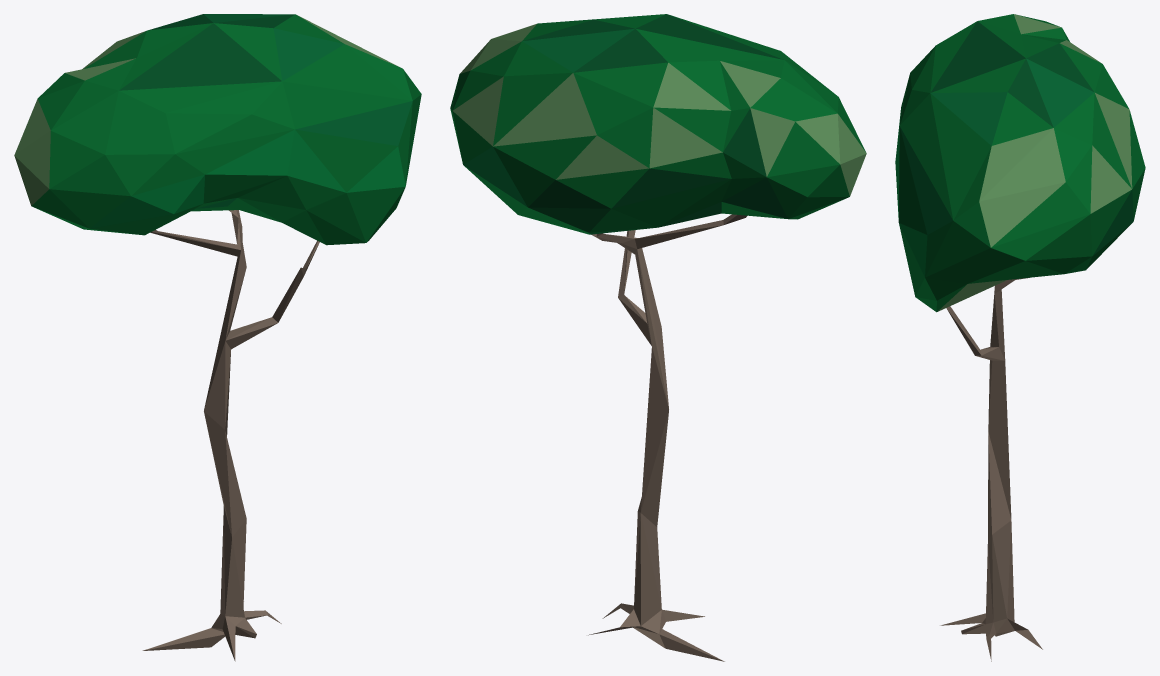
Rendered from Glade_Tree3.fbx.
3 views of the same model, side by side, from view 1: azimuth 30°, elevation 25°; view 2: azimuth 150°, elevation 25°; view 3: azimuth 270°, elevation 25° (orthographic). The views are drawn at different scales.
Visible parts, largest first — view 1: Icosphere.004; view 2: Icosphere.004; view 3: Icosphere.004.
Part boxes in pixels (box(x1,y1,x2,y2)): Icosphere.004: box(14, 14, 421, 661); Icosphere.004: box(450, 14, 866, 661); Icosphere.004: box(895, 14, 1145, 661).
Bounding box in the file's own units: 361 × 539 × 209.
